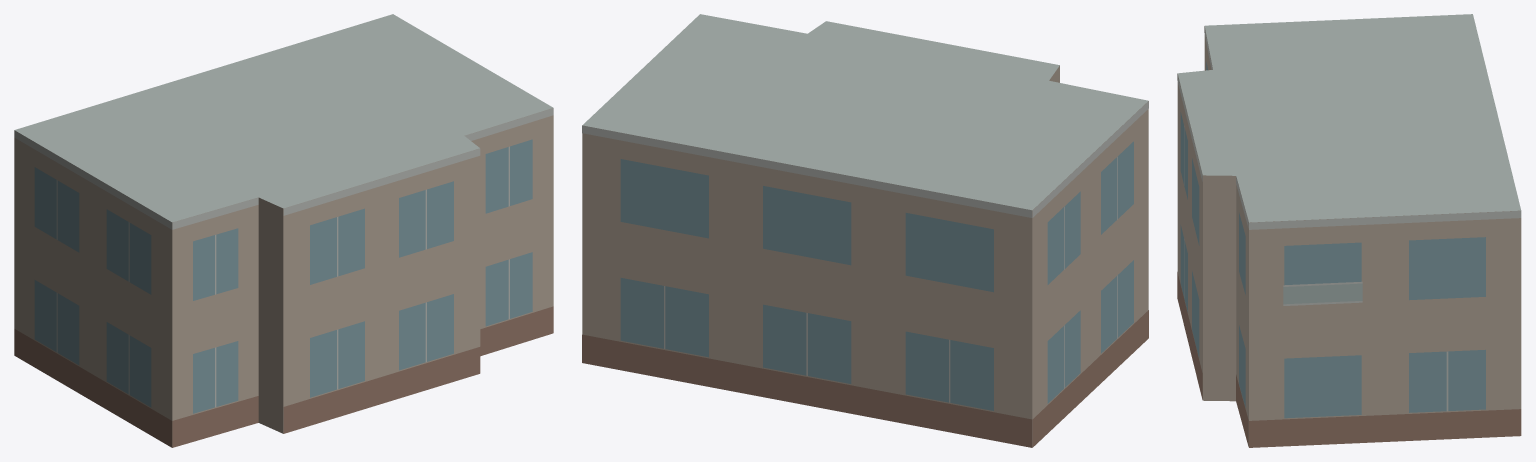
File: survey-upis-32619315.glb
The picture shows the model from 3 angles, left to right: view 1: azimuth 30°, elevation 25°; view 2: azimuth 150°, elevation 25°; view 3: azimuth 270°, elevation 25°; orthographic projection. The views are drawn at different scales.
Parts seen in each view (by area): view 1: survey-upis-32619315.tmp; view 2: survey-upis-32619315.tmp; view 3: survey-upis-32619315.tmp.
Boxes of the visible parts, <box> form: survey-upis-32619315.tmp: <box>14,14,553,447</box>; survey-upis-32619315.tmp: <box>582,14,1148,447</box>; survey-upis-32619315.tmp: <box>1177,14,1521,447</box>.
Bounding box in the file's own units: 14.69 × 7.4 × 10.24.
